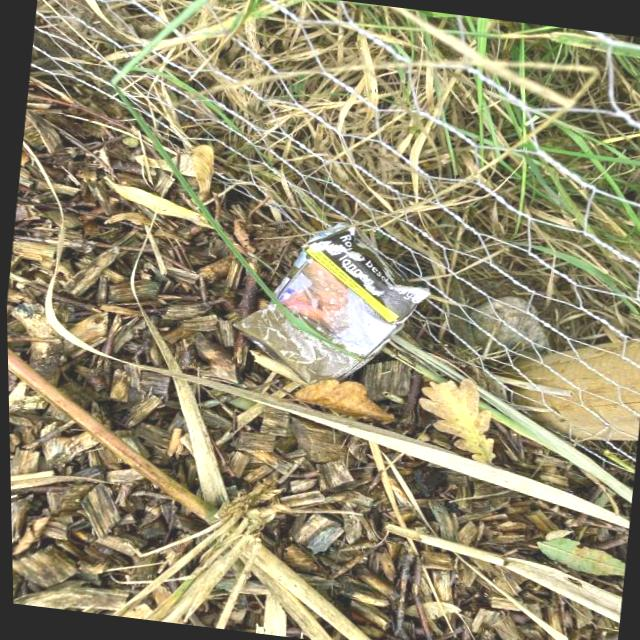Paper: (220, 208, 442, 399)
